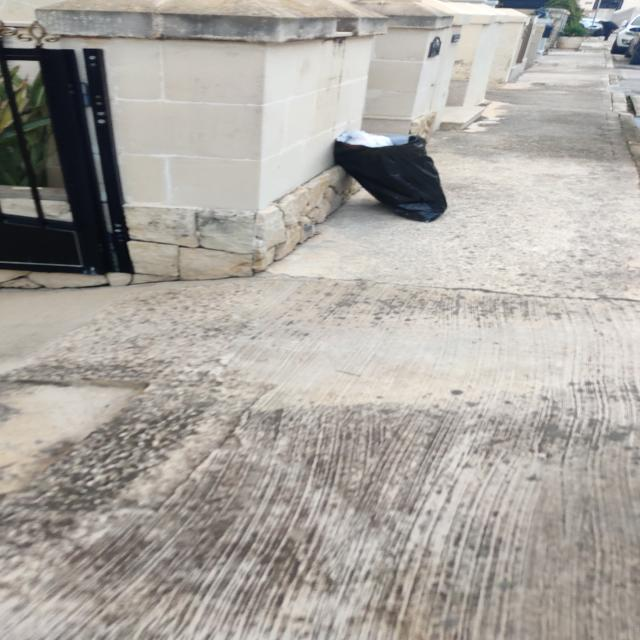Mixed Waste -Black Bags-: (333, 128, 449, 224)
